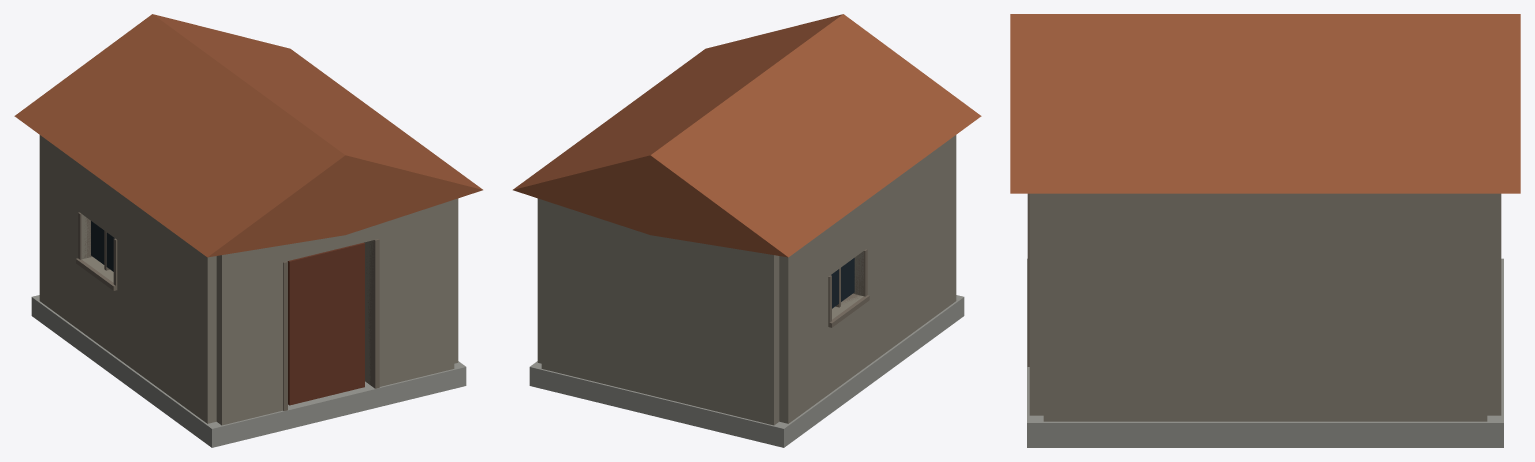
Rendered from FM_Shed_Damaged_01.glb.
The picture shows the model from 3 angles, left to right: view 1: azimuth 30°, elevation 25°; view 2: azimuth 150°, elevation 25°; view 3: azimuth 270°, elevation 25°; orthographic projection. The views are drawn at different scales.
Parts seen in each view (by area): view 1: FM_Shed_Damaged_01; view 2: FM_Shed_Damaged_01; view 3: FM_Shed_Damaged_01.
Part boxes in pixels (x1=…): FM_Shed_Damaged_01: x1=14, y1=14, x2=482, y2=447; FM_Shed_Damaged_01: x1=513, y1=14, x2=981, y2=447; FM_Shed_Damaged_01: x1=1010, y1=14, x2=1520, y2=447.
Bounding box in the file's own units: 3.8 × 3.5 × 4.6.
Materials: 1 (1 with a texture image).
